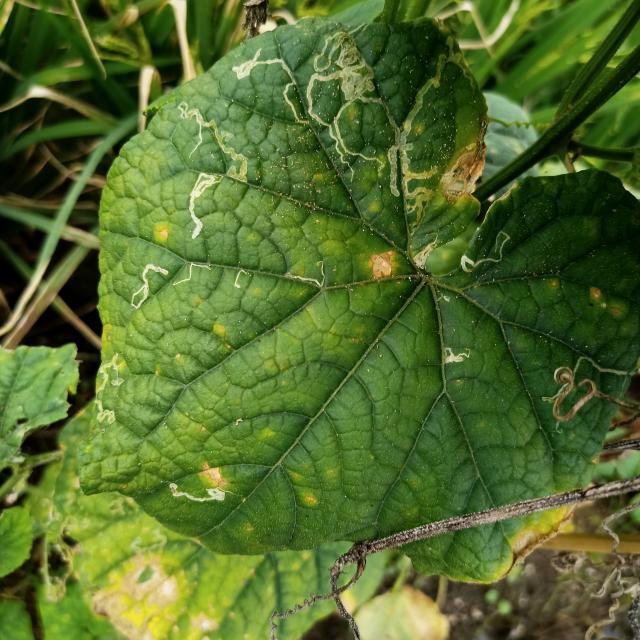disease_cucumber: (592, 282, 624, 321), (367, 248, 396, 281), (199, 462, 224, 485), (154, 226, 173, 244)
